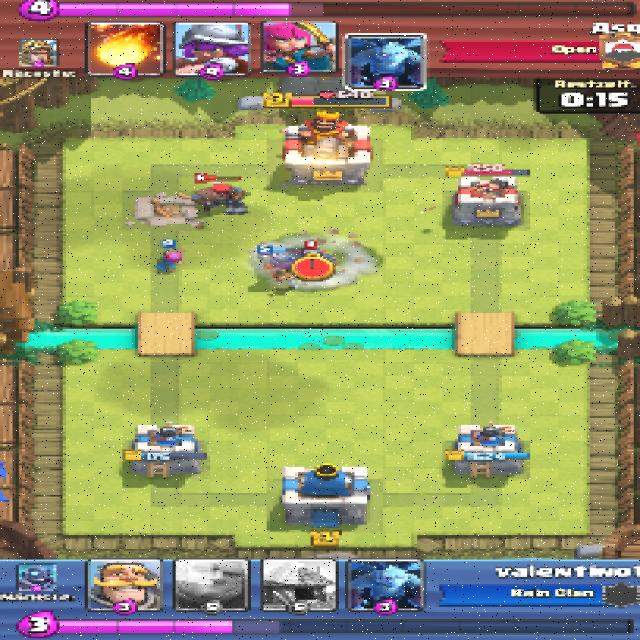Enemy-Hunter: (189, 184, 250, 216)
Enemy-MiniPEKKA: (296, 249, 330, 269)
Player-Archer: (158, 250, 185, 271)
Player-Musketeer: (255, 248, 300, 276)
